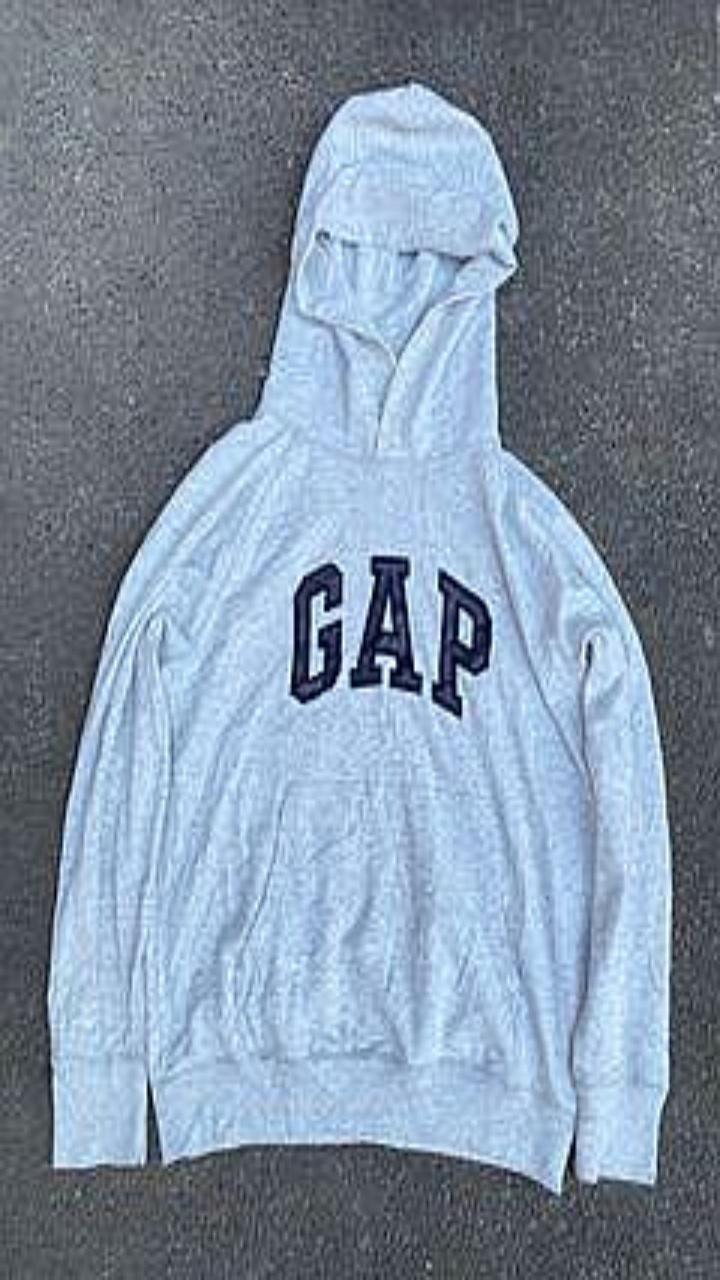Hoodie: (48, 81, 670, 1192)
